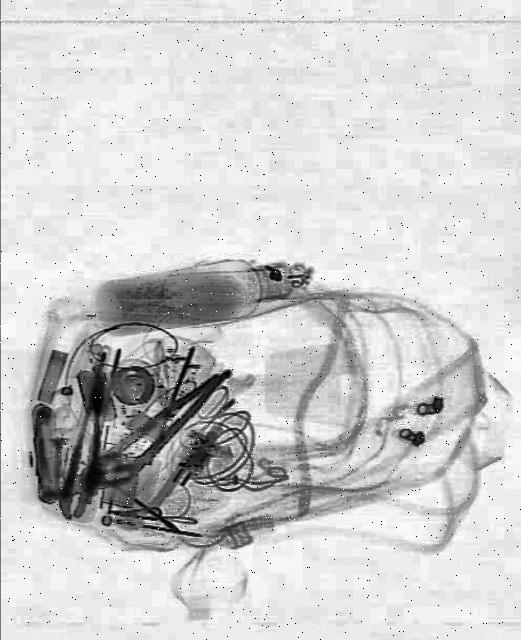Pliers: (72, 349, 244, 511)
